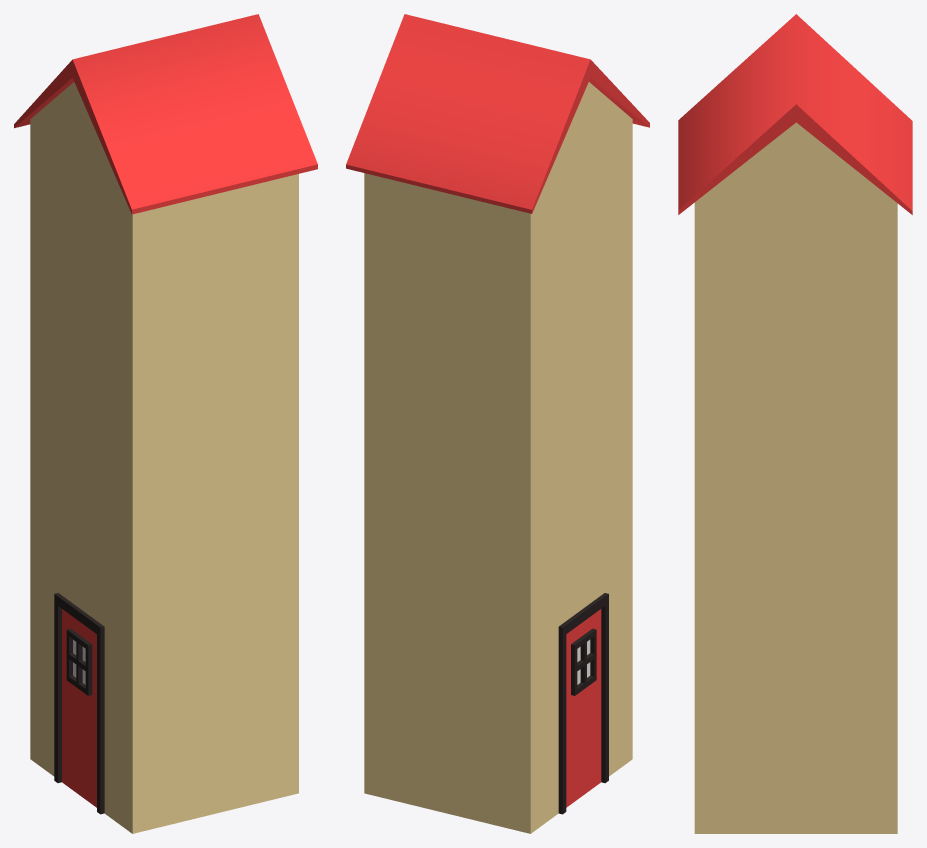
The model's file is House 06 R.FBX.
3 views of the same model, side by side, from view 1: azimuth 30°, elevation 25°; view 2: azimuth 150°, elevation 25°; view 3: azimuth 270°, elevation 25° (orthographic).
Parts seen in each view (by area): view 1: Box001; view 2: Box001; view 3: Box001.
Boxes of the visible parts, <box> form: Box001: <box>14,14,317,833</box>; Box001: <box>346,14,649,833</box>; Box001: <box>678,14,912,833</box>.
Bounding box in the file's own units: 27.78 × 105 × 30.48.
